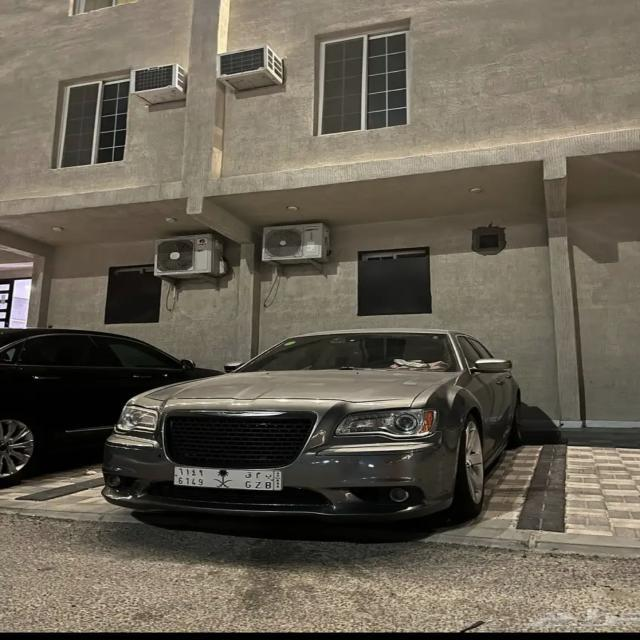license_plate: (172, 464, 284, 492)
